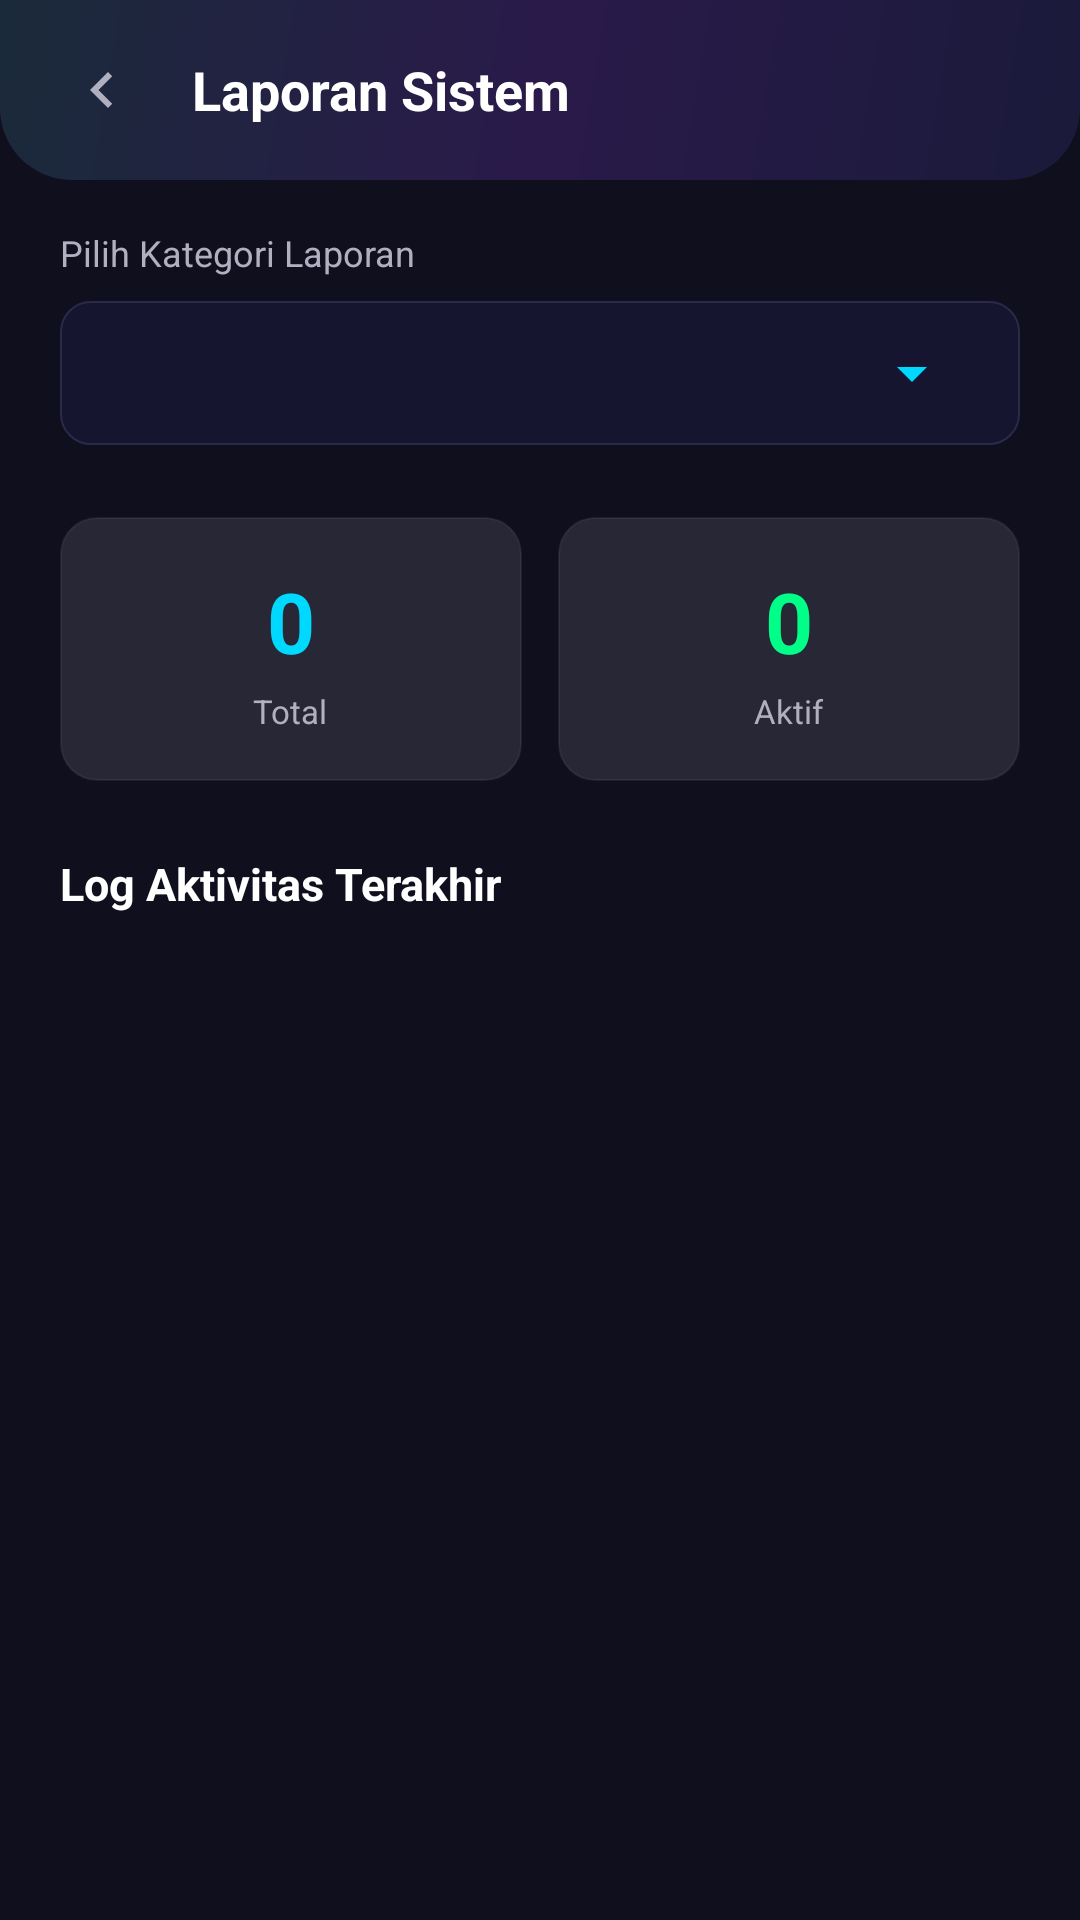

Where icons sit on this 1080px x 1920px app screen, as (x1, y1, x2, y2):
Kembali: (90, 72, 112, 108)
